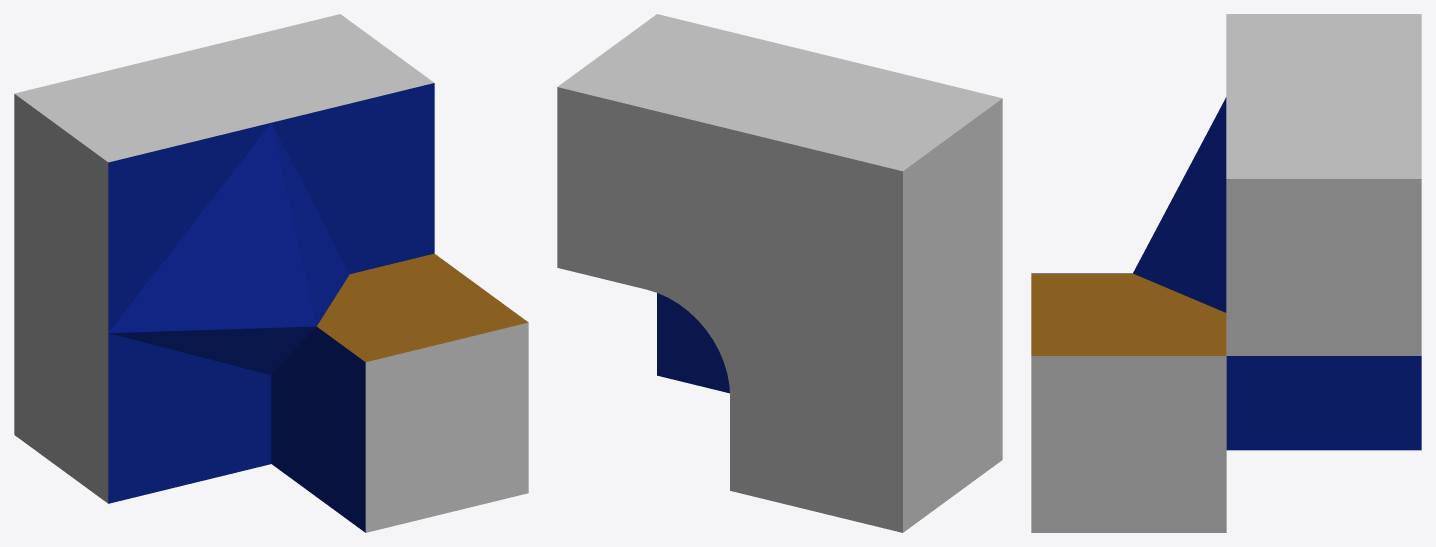
Rendered from case_53.fbx.
3 views of the same model, side by side, from view 1: azimuth 30°, elevation 25°; view 2: azimuth 150°, elevation 25°; view 3: azimuth 270°, elevation 25° (orthographic). The views are drawn at different scales.
Visible parts, largest first — view 1: case_53; view 2: case_53; view 3: case_53.
Part boxes in pixels (left/top/right/bottom): case_53: left=14, top=14, right=528, bottom=532; case_53: left=557, top=14, right=1002, bottom=532; case_53: left=1031, top=14, right=1421, bottom=532.
Bounding box in the file's own units: 1 × 1 × 1.
